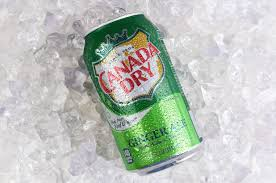Lata: (80, 11, 207, 179)
